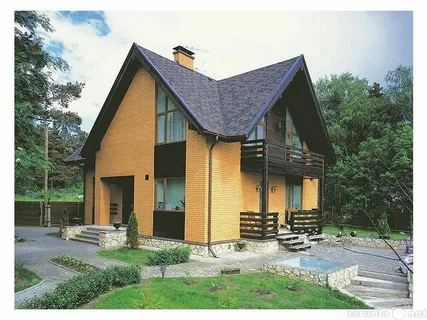private_hause: (75, 43, 330, 248)
